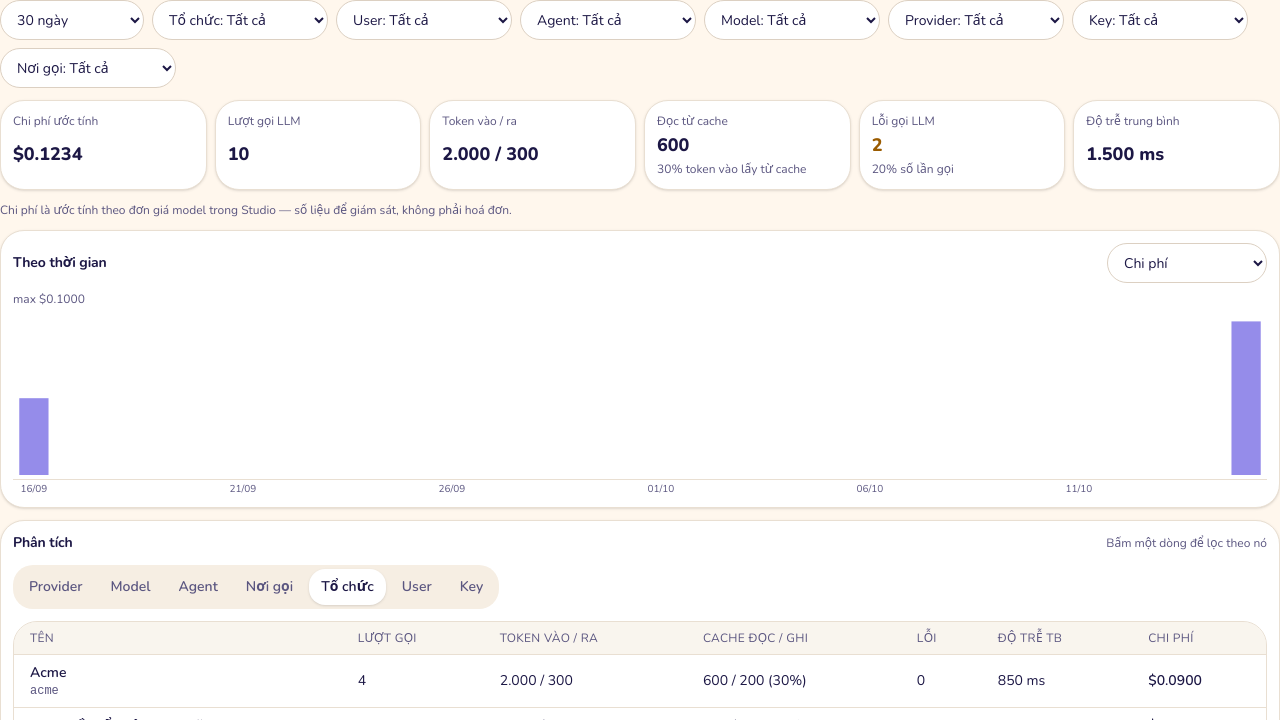
Test: Usage theo tổ chức (D22) › tab Tổ chức gộp theo tenant (tên + slug); chọn tổ chức → lọc tenant_id
The width and height of the screenshot is (1280, 720).
Select "Acme" in the dropdown with test id "usage-filter-tenant_id" at (240,20), box [152, 0, 328, 40]
(page scrolled)
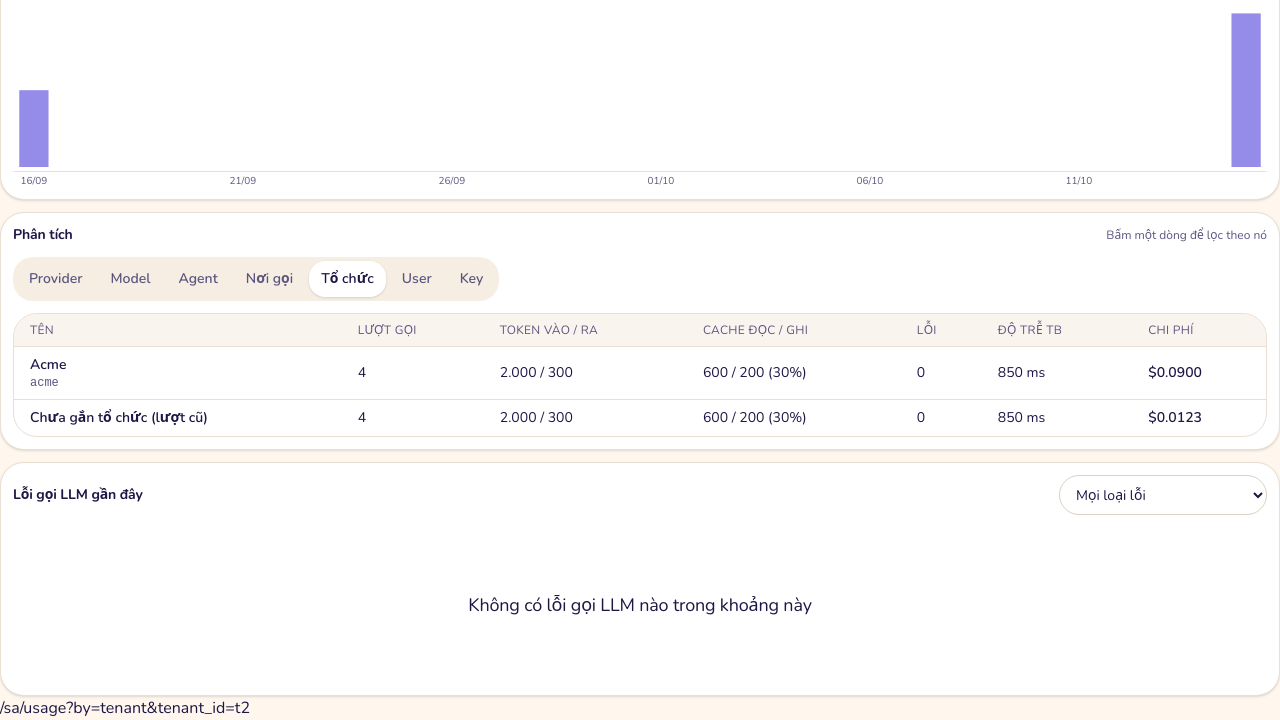
Check: the text with test id "where" shows "tenant_id=t2", box [0, 697, 250, 719]
